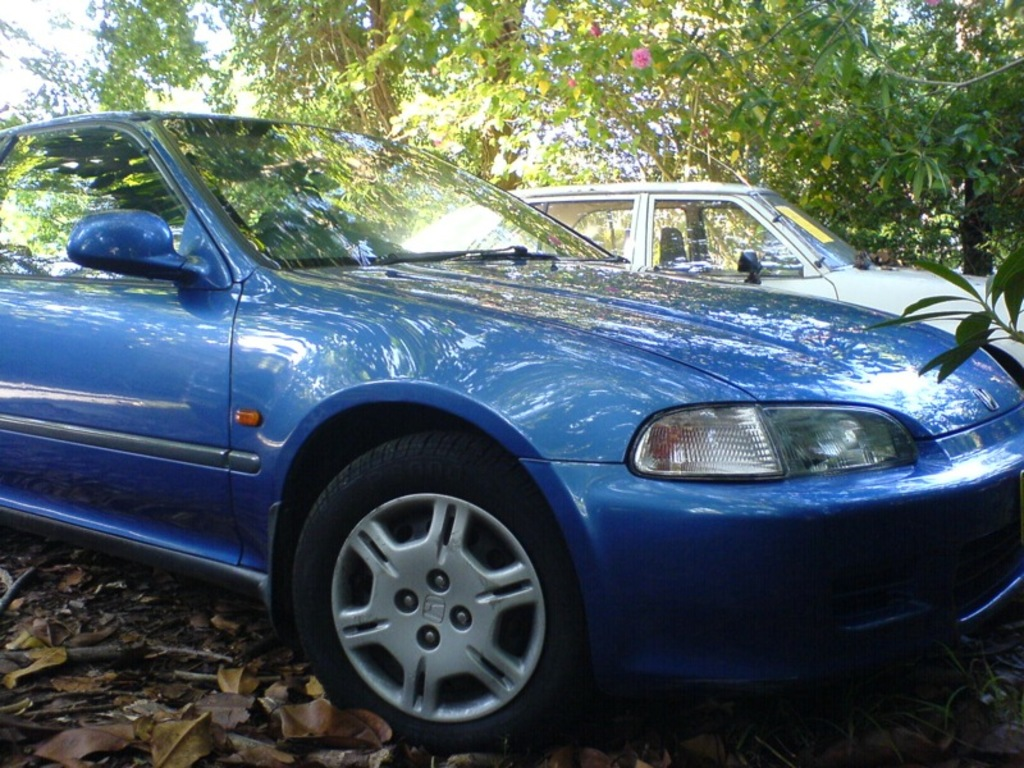Tree: (0, 0, 1024, 396)
